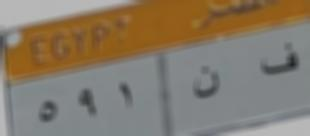1: (114, 79, 137, 112)
5: (34, 98, 63, 129)
9: (75, 84, 101, 123)
faa: (257, 39, 302, 84)
noon: (187, 63, 224, 105)
